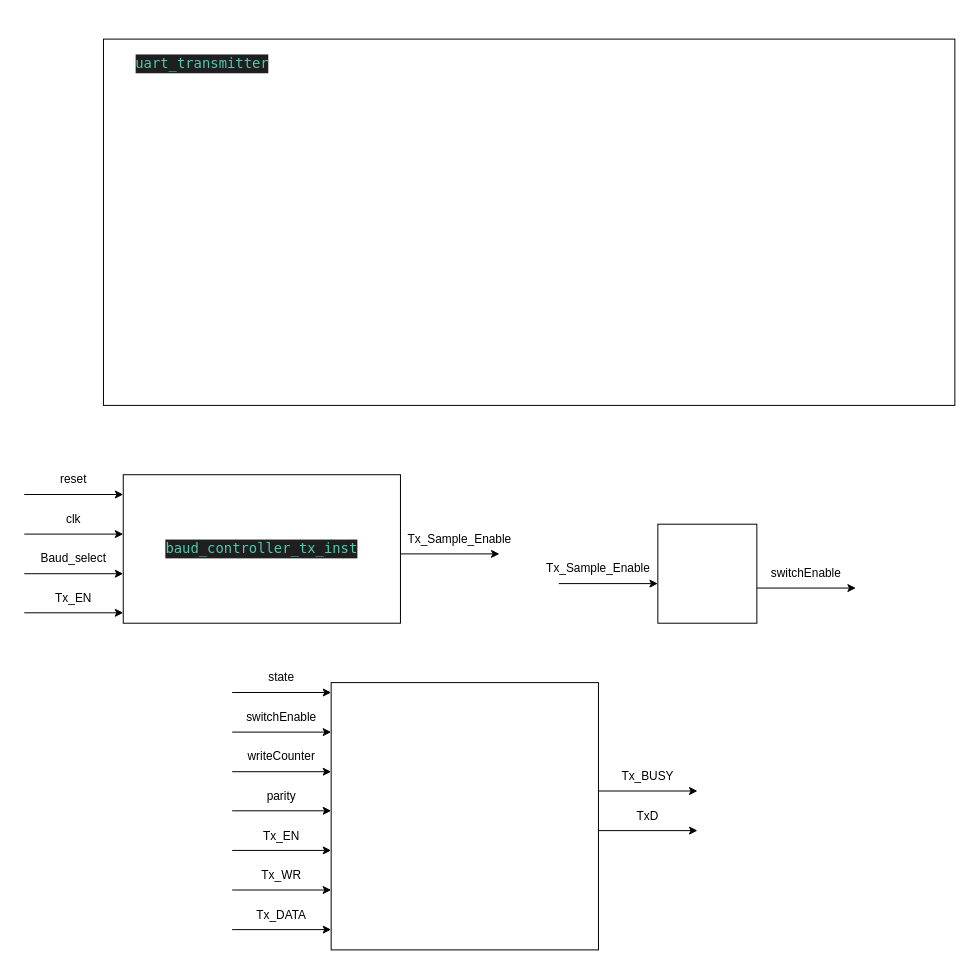
Some shapes in this 972 by 967 pixel diagram are drawn without their labels. The centre of each missing label's shape, as x and y in pixels:
enableCounter: [707,573]
FSM (Moore): [464,816]
